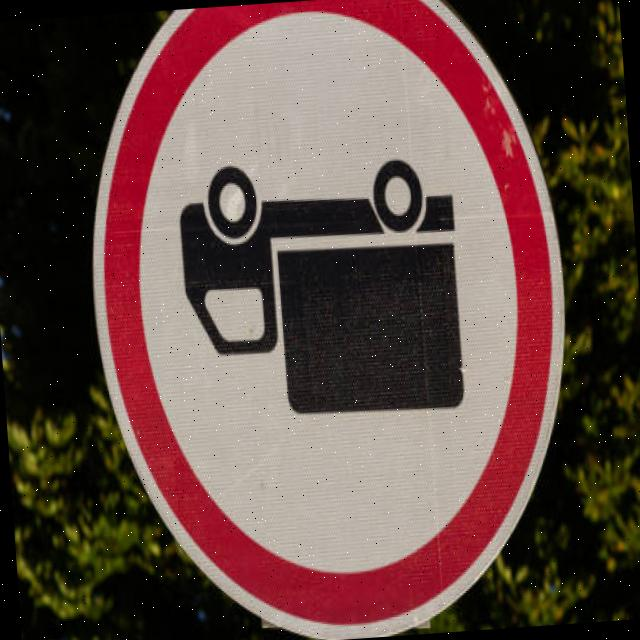do_not_enter: (59, 0, 590, 640)
